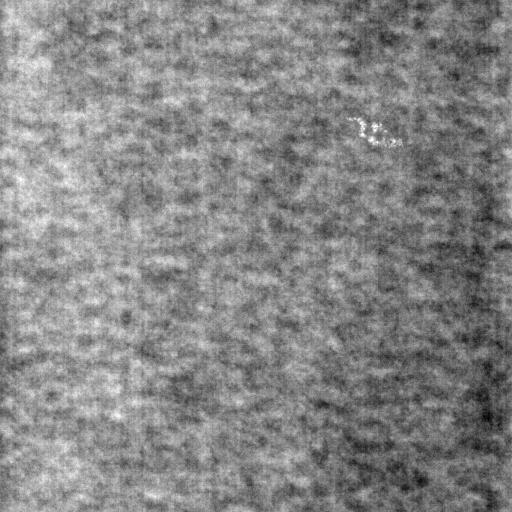DefectTypeA: (348, 112, 405, 150)
